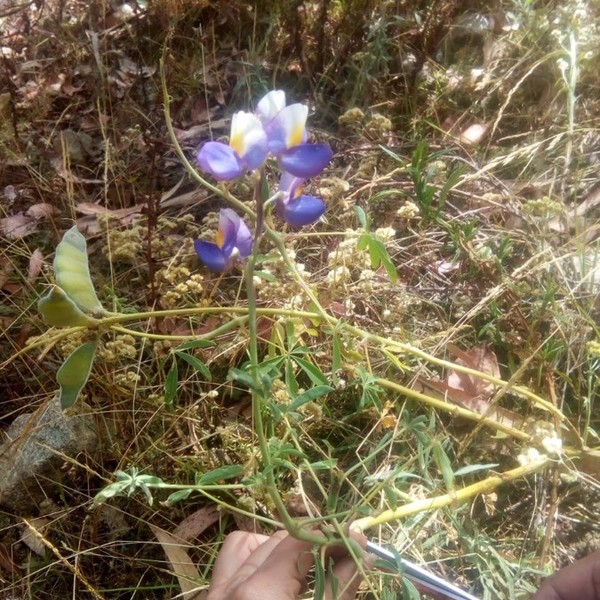obstacle: (21, 190, 453, 445), (178, 91, 390, 350)
